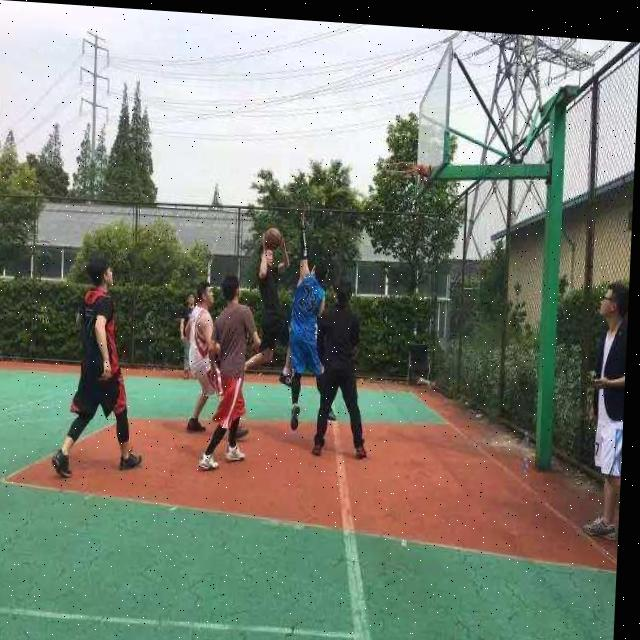basketball: (264, 226, 284, 253)
hoop: (381, 159, 424, 192)
